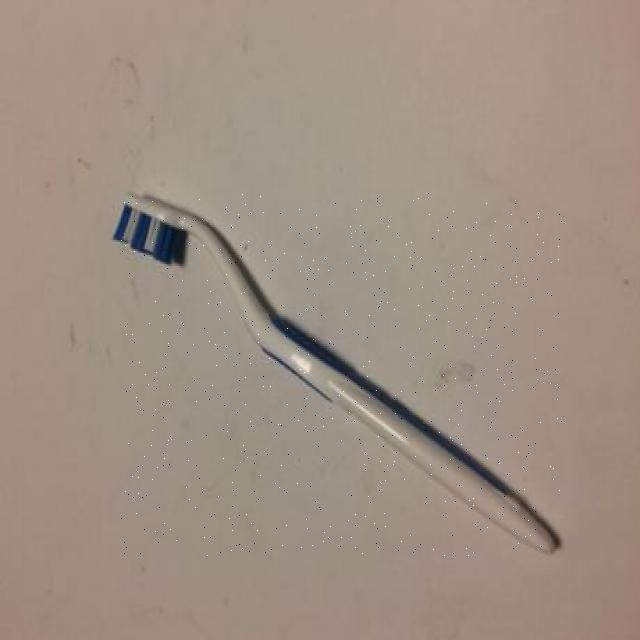plastic: (121, 194, 562, 556)
